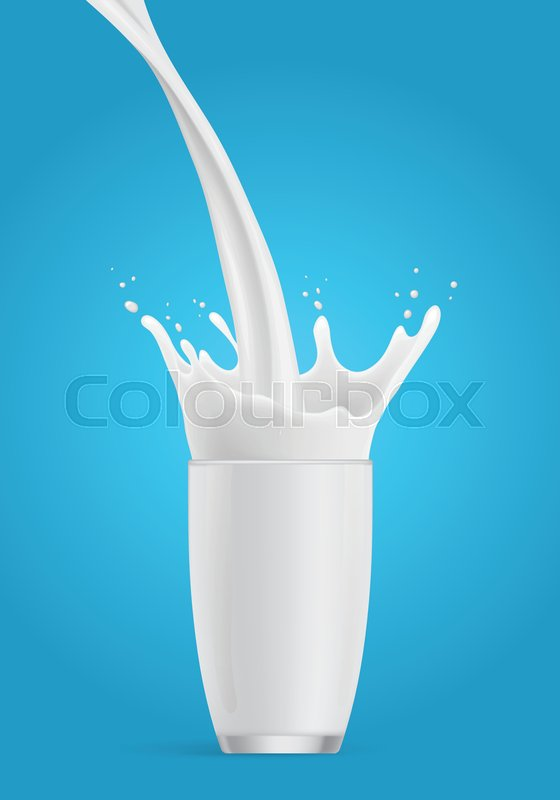glass of milk: (186, 447, 374, 759)
